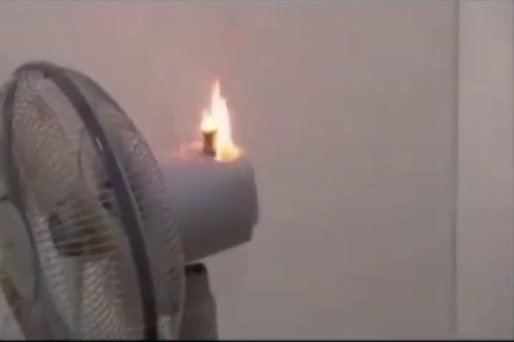fire: (205, 88, 245, 163)
